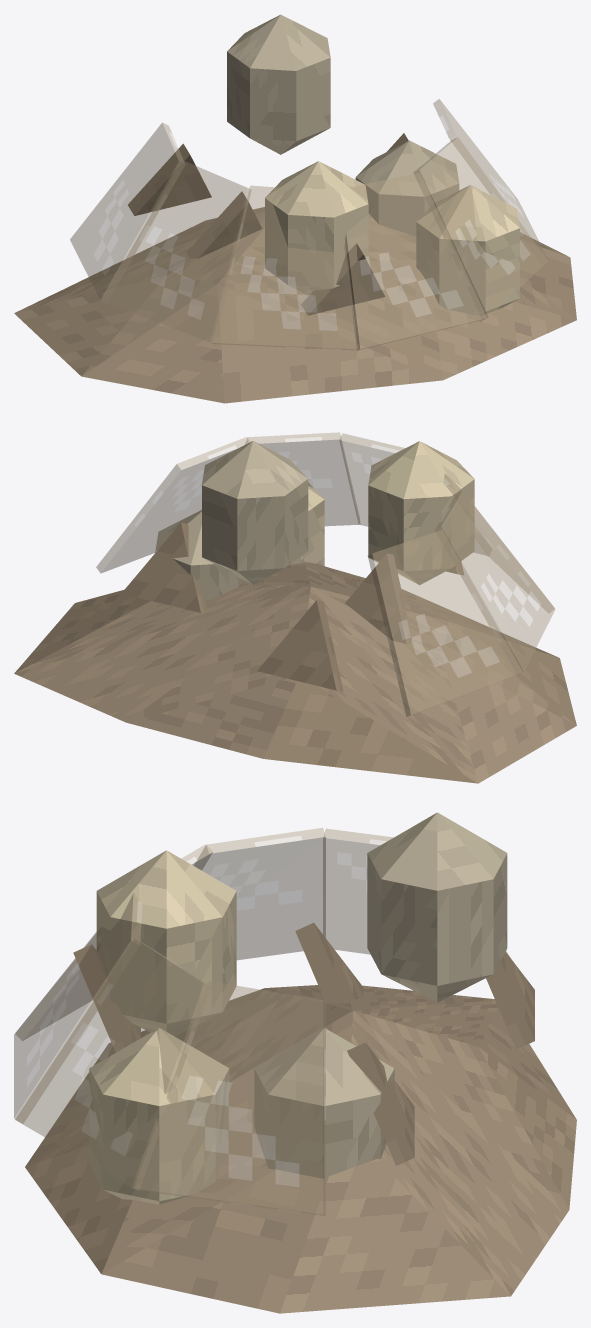
Rendered from f_egg_sacke.glb.
3 views of the same model, one above another, from view 1: azimuth 30°, elevation 25°; view 2: azimuth 150°, elevation 25°; view 3: azimuth 270°, elevation 25° (orthographic). The views are drawn at different scales.
Visible parts, largest first — view 1: block_draped-translucent-silk-membrane (×6), block_silken-egg-nest, block_round-off-white-egg (×4), block_split-shell-fragment (×3); view 2: block_silken-egg-nest, block_draped-translucent-silk-membrane (×6), block_round-off-white-egg (×4), block_split-shell-fragment (×3); view 3: block_silken-egg-nest, block_draped-translucent-silk-membrane (×6), block_round-off-white-egg (×4), block_split-shell-fragment (×4).
Part boxes in pixels (<box>): block_draped-translucent-silk-membrane (×6): <box>70,99,547,350</box>; block_silken-egg-nest: <box>14,207,576,403</box>; block_round-off-white-egg (×4): <box>227,14,519,315</box>; block_split-shell-fragment (×3): <box>128,143,384,315</box>; block_silken-egg-nest: <box>14,562,576,783</box>; block_draped-translucent-silk-membrane (×6): <box>96,432,555,716</box>; block_round-off-white-egg (×4): <box>155,441,474,601</box>; block_split-shell-fragment (×3): <box>121,522,411,691</box>; block_silken-egg-nest: <box>25,985,576,1313</box>; block_draped-translucent-silk-membrane (×6): <box>14,827,509,1216</box>; block_round-off-white-egg (×4): <box>89,812,507,1204</box>; block_split-shell-fragment (×4): <box>73,922,534,1165</box>.
Size of the model in its own units: 0.6234 by 0.3131 by 0.4589.
2 materials, 2 textured.
